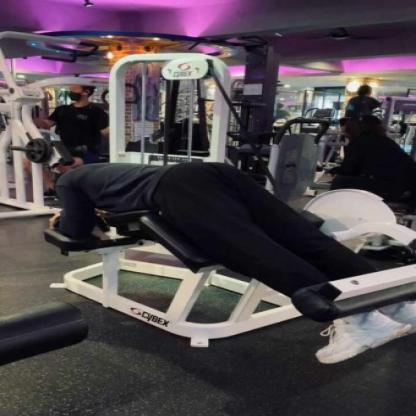reg curl machine: (29, 53, 416, 378)
